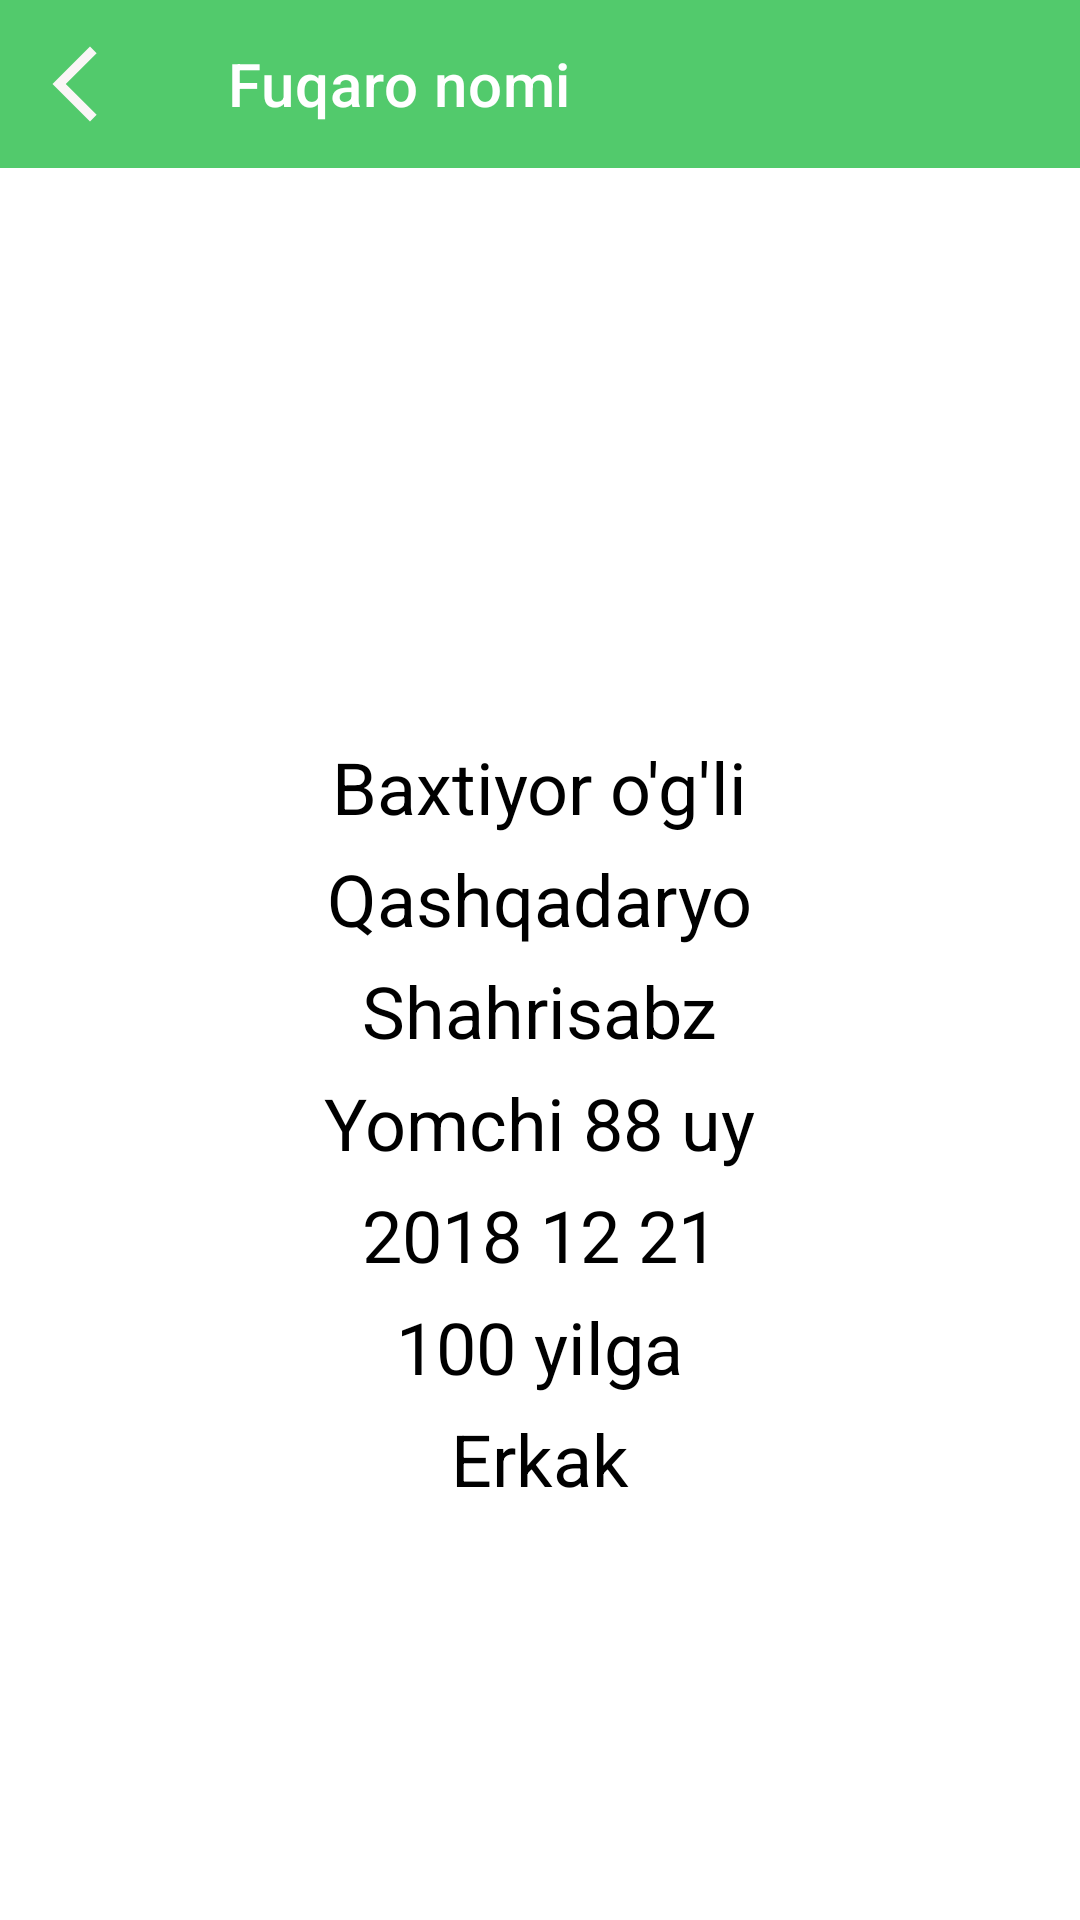

Icons on this 1080*1920 Android screen, each with its box as box=[x1, y1, x2, y2]:
arrow back: box=[53, 47, 97, 121]
